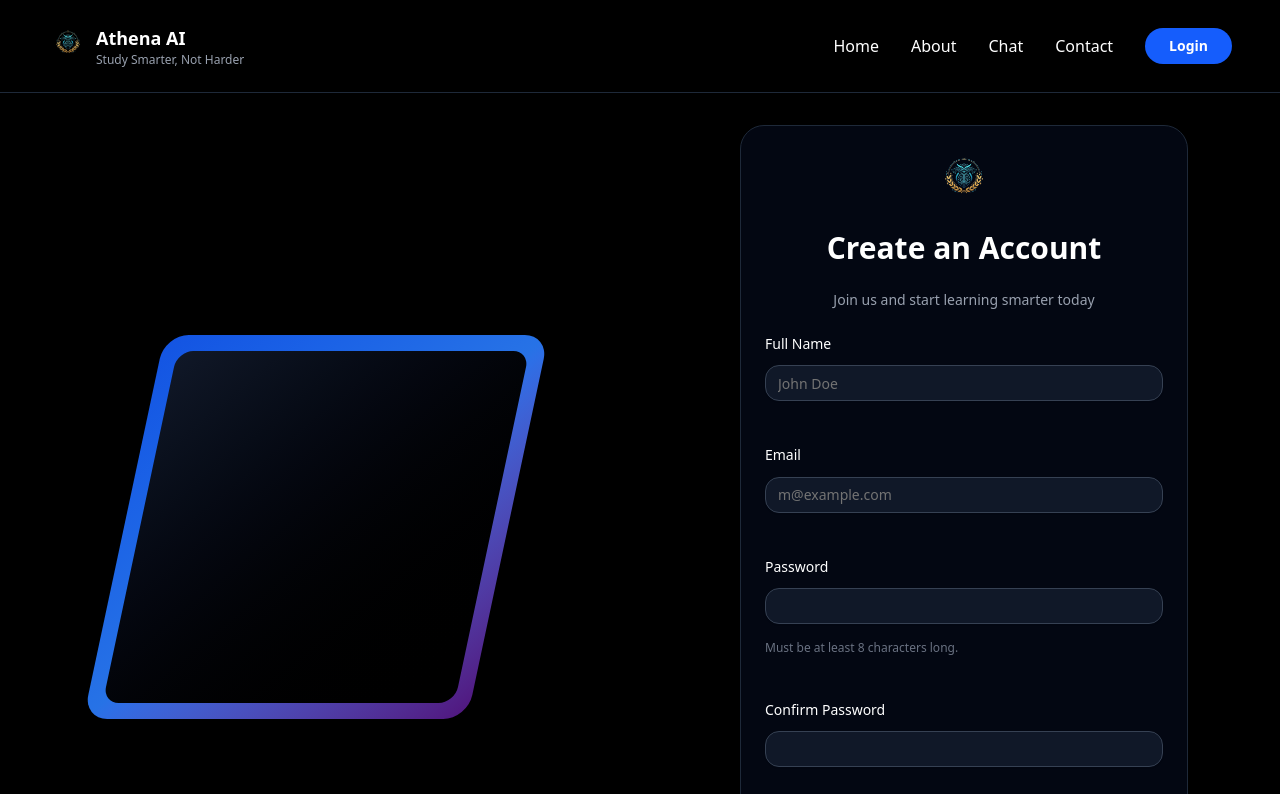
Test: SignupForm › creates the account and stores the session
Type "Ada Lovelace" into the field labelled "Full Name" at (964, 383), box [765,365,1163,401]
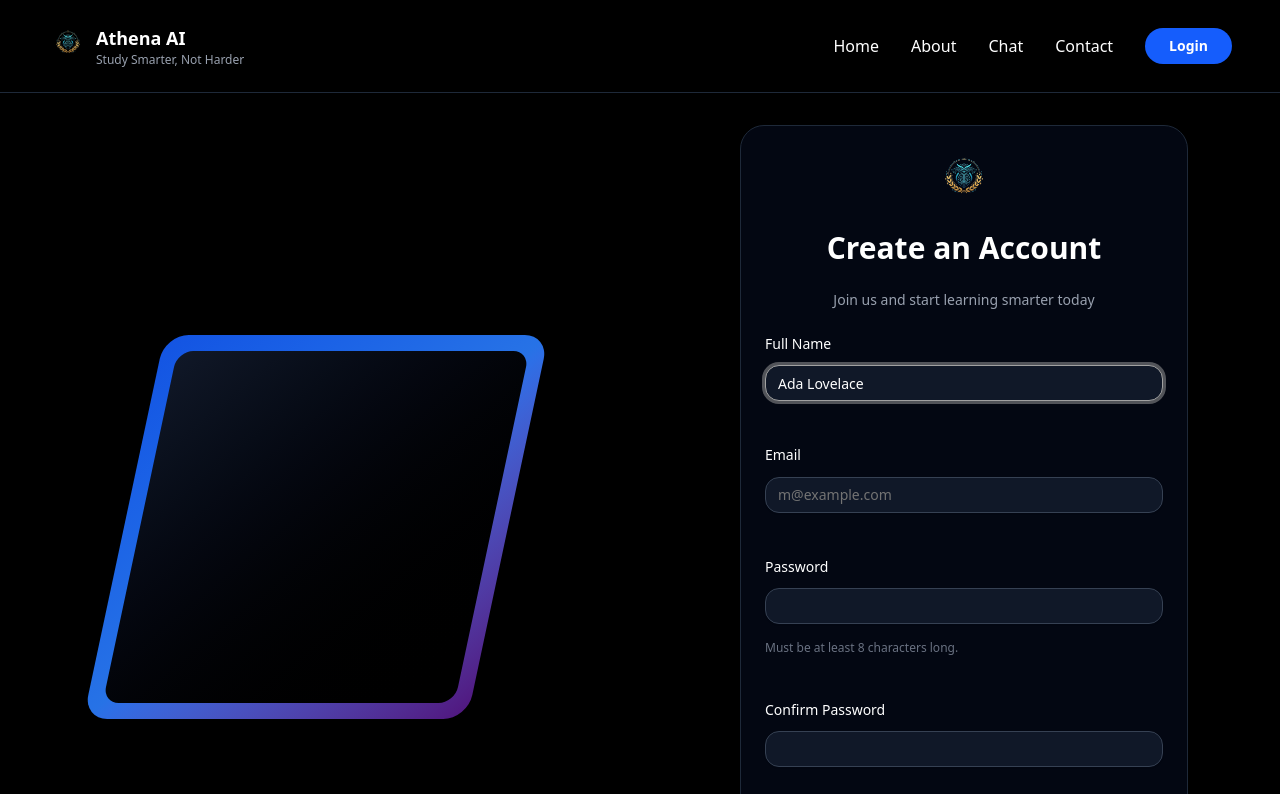
Type "ada@example.com" into the field labelled "Email" at (964, 494), box [765,476,1163,512]
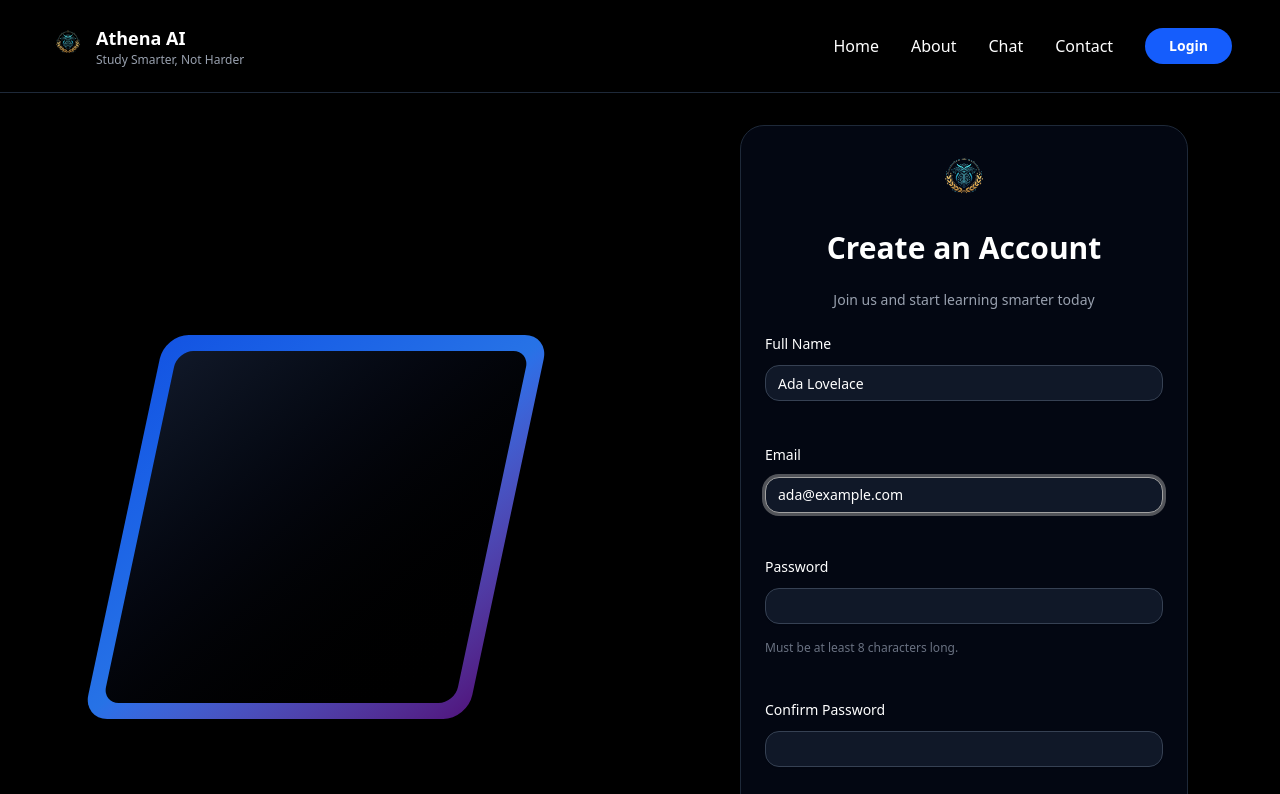
Type "password123" into the password field labelled "Password" at (964, 606), box [765,588,1163,624]
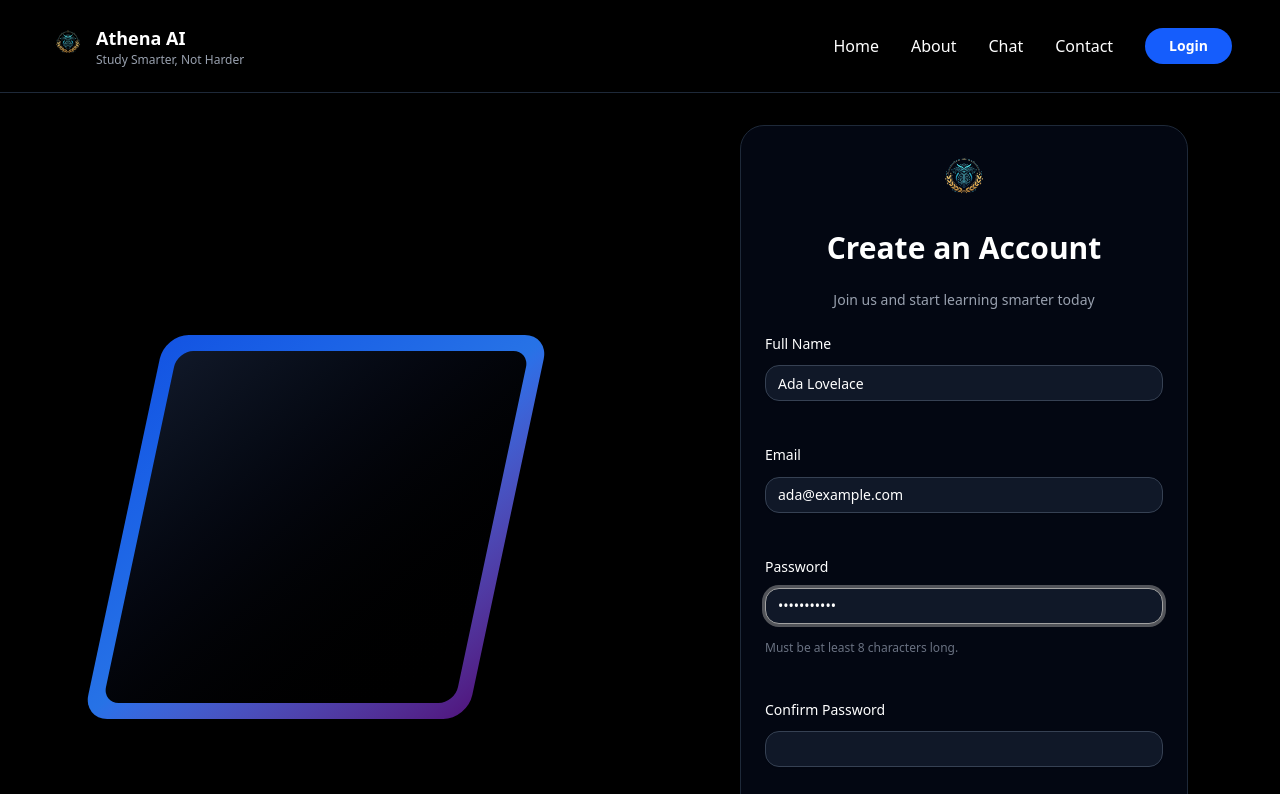
Type "password123" into the password field labelled "Confirm Password" at (964, 749), box [765,731,1163,767]
(page scrolled)
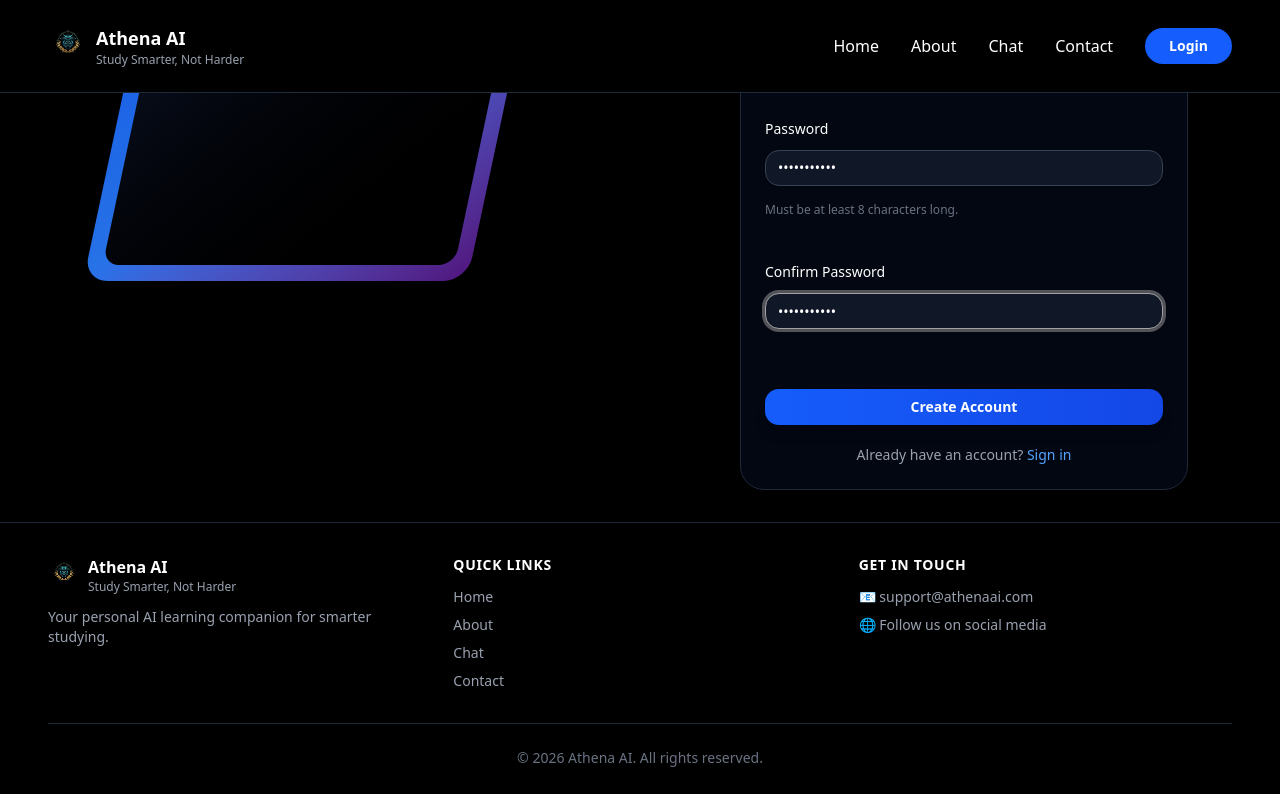
Click the submit button at (964, 407), box [765,389,1163,425]
(page scrolled)
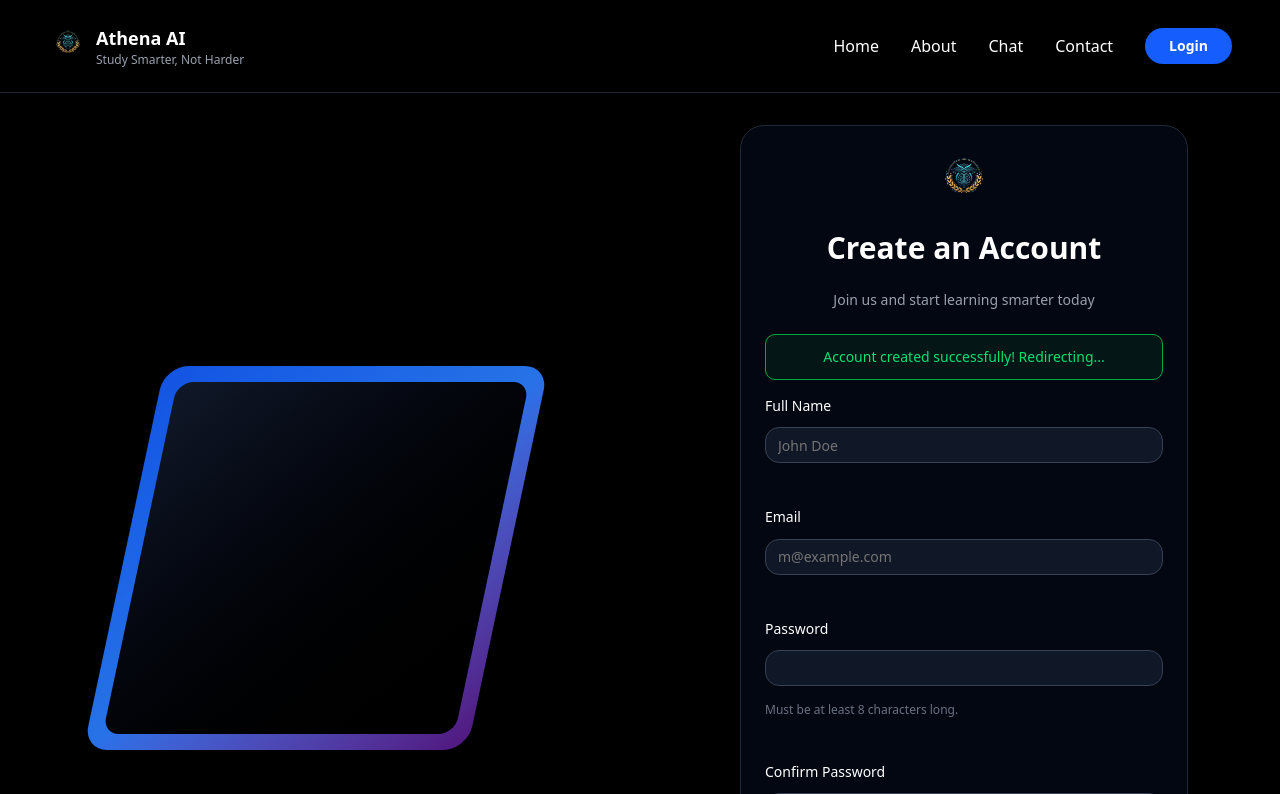
Result: the text "Account created successfully! Redirecting..." is shown at [765,334,1163,380]
